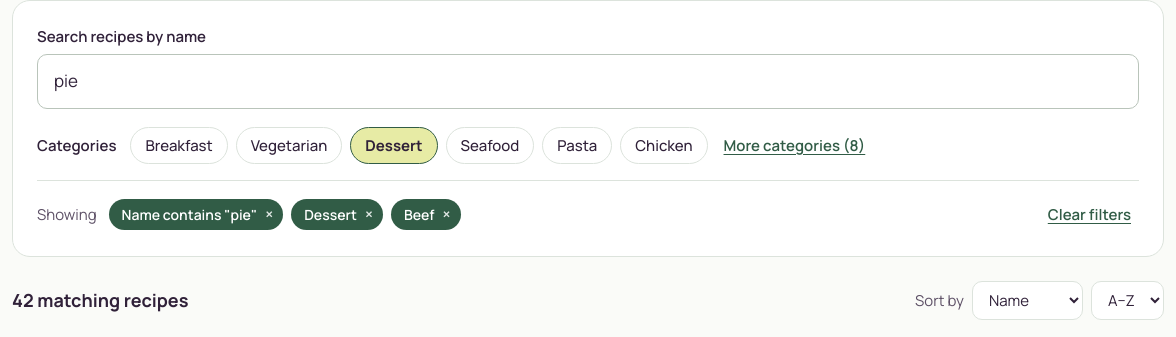
it: DiscoveryToolbar active filters › renders chips for the query and categories and removes each
The image size is (1176, 337).
expect the text "Showing" is shown: met, box [37,203,96,226]
expect the button named "Remove name contains \"pie\"" shows "Name contains \"pie\"": met, box [108,199,283,230]
Click the button with aria-label "Remove Beef" at (426, 214), box [391,199,461,230]
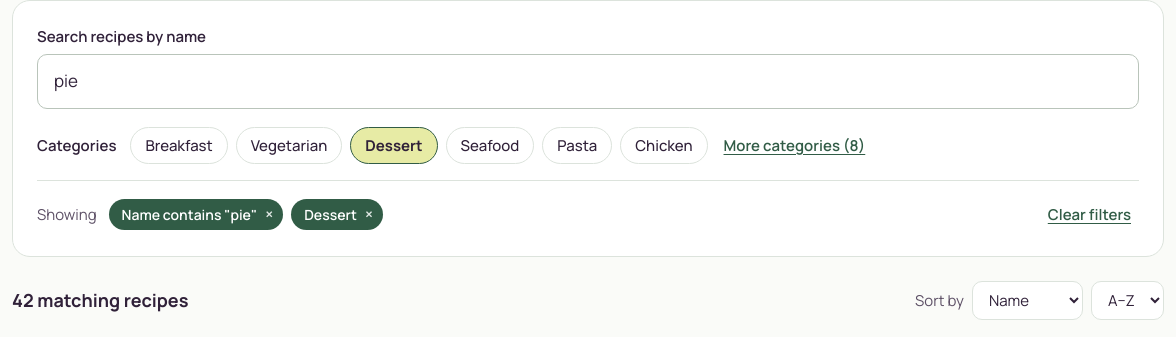
Click the button named "Remove name contains \"pie\"" at (196, 214), box [108,199,283,230]
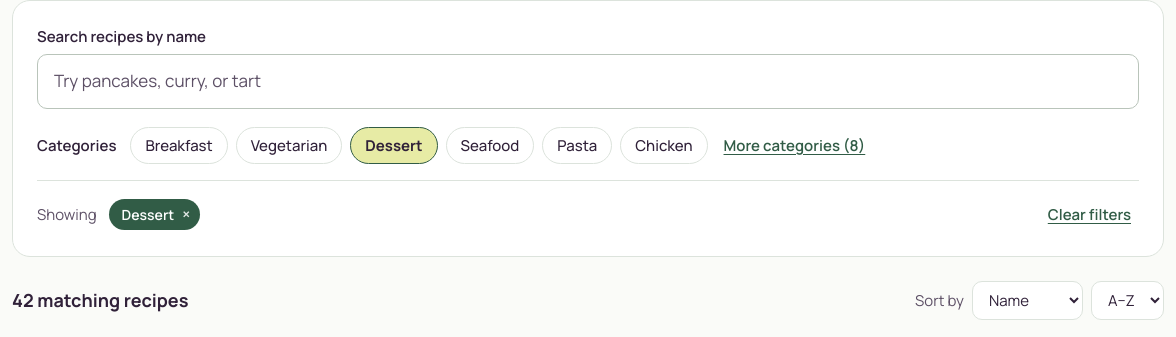
Click the button with aria-label "Remove Dessert" at (154, 214), box [108,199,200,230]
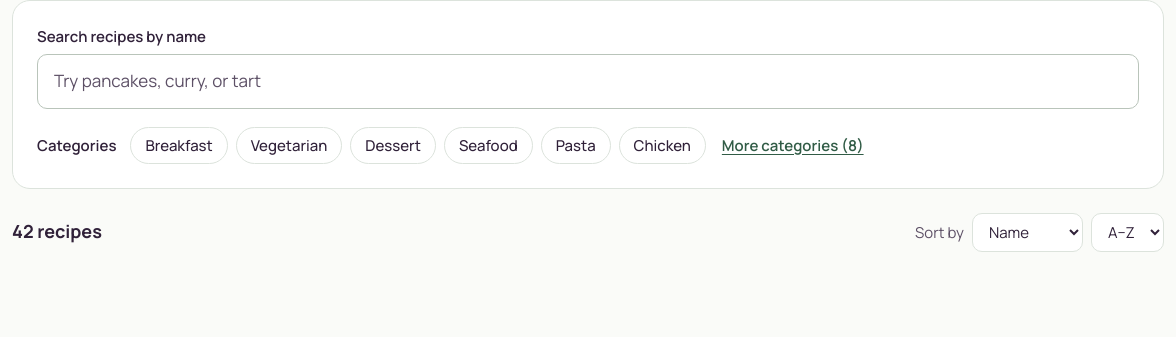
expect the text "Showing" is gone: met
